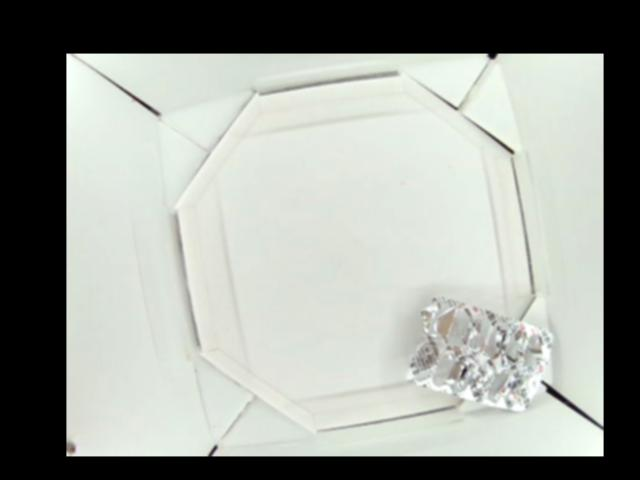Medicine: (408, 295, 552, 411)
